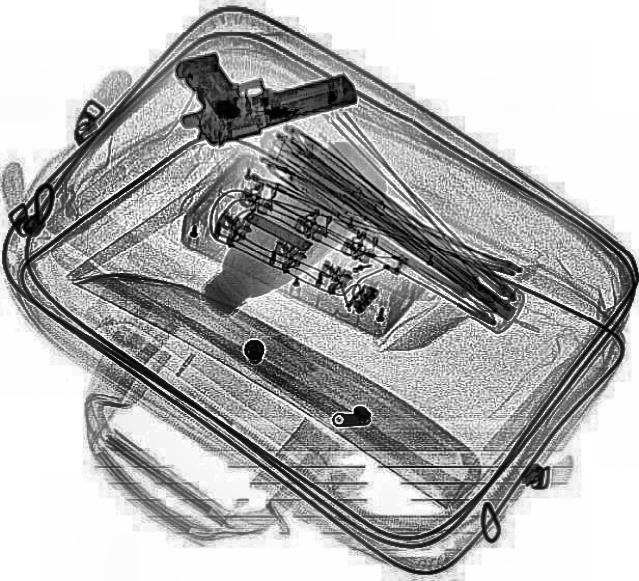Gun: (157, 19, 362, 153)
